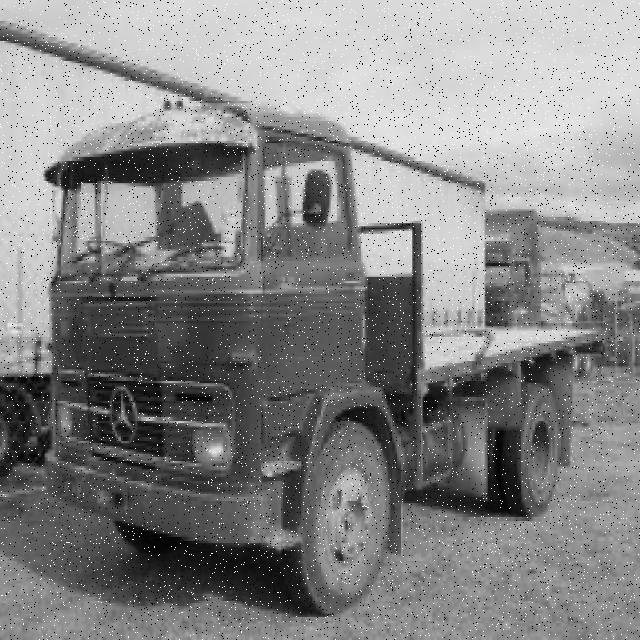Box Truck: (43, 97, 607, 619)
